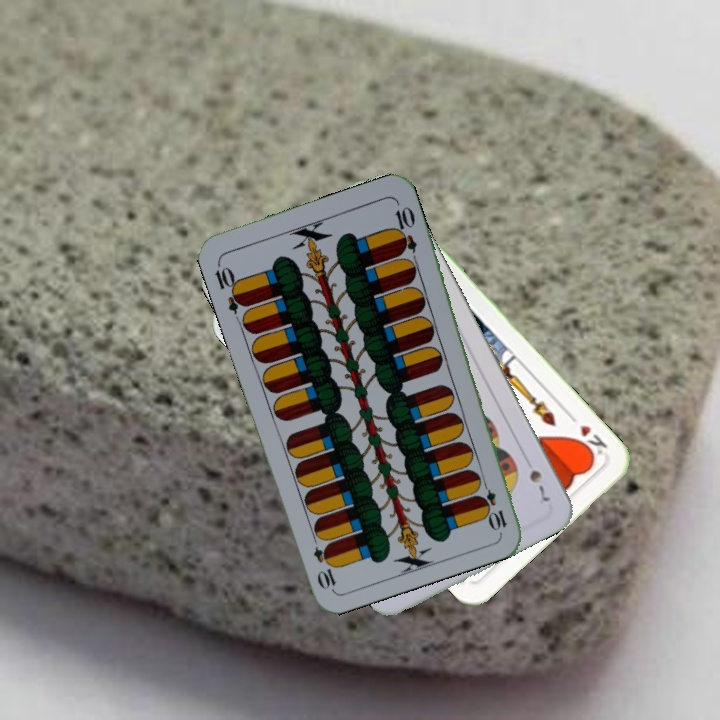E10: (211, 258, 249, 316), (476, 475, 510, 533)
HK: (564, 410, 610, 462)
S7: (525, 465, 553, 505)
